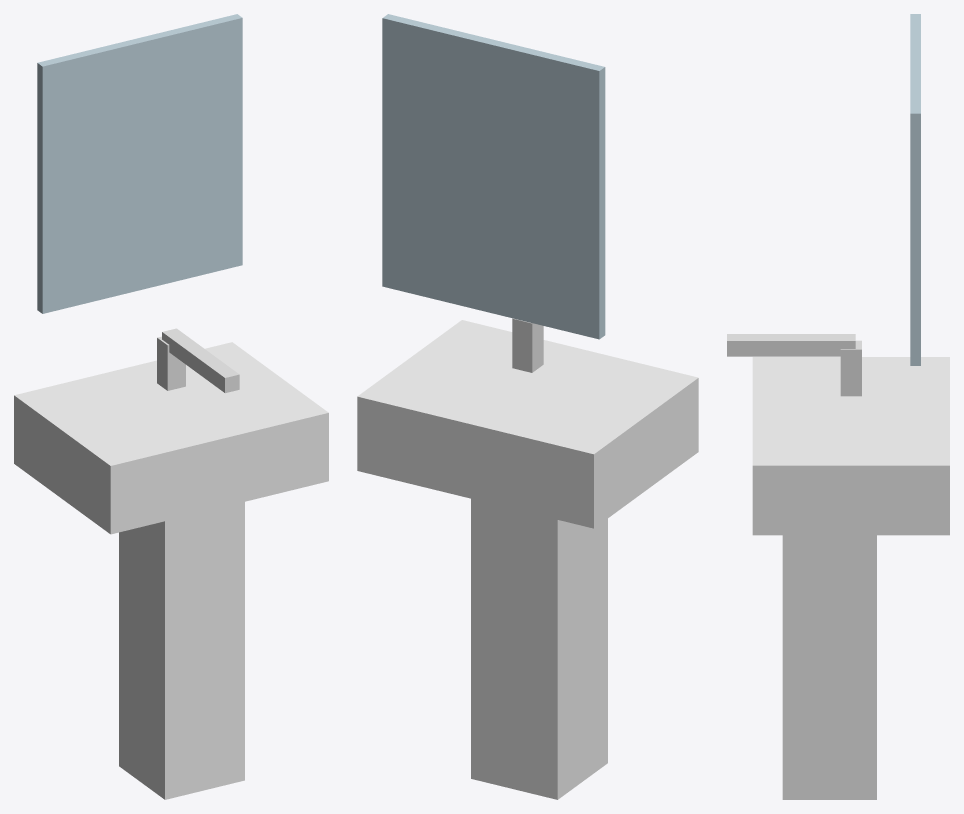
The model's file is sink.glb.
The picture shows the model from 3 angles, left to right: view 1: azimuth 30°, elevation 25°; view 2: azimuth 150°, elevation 25°; view 3: azimuth 270°, elevation 25°; orthographic projection. The views are drawn at different scales.
Bounding box in the file's own units: 0.6 × 1.85 × 0.52.
